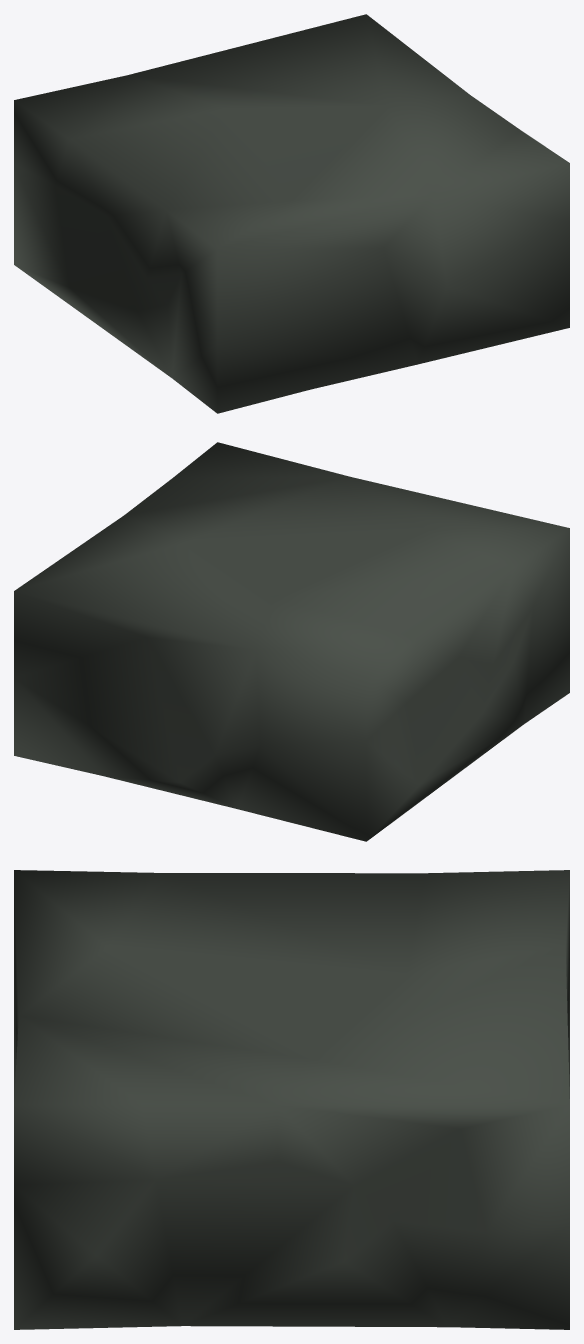
File: underrock_1.glb
The picture shows the model from 3 angles, top to bottom: view 1: azimuth 30°, elevation 25°; view 2: azimuth 150°, elevation 25°; view 3: azimuth 270°, elevation 25°; orthographic projection. The views are drawn at different scales.
Parts seen in each view (by area): view 1: underrock_1; view 2: underrock_1; view 3: underrock_1.
Boxes of the visible parts, bbox=[...] form: underrock_1: bbox=[14, 14, 569, 413]; underrock_1: bbox=[14, 442, 569, 841]; underrock_1: bbox=[14, 870, 569, 1329].
Bounding box in the file's own units: 2.8 × 1.25 × 2.8.
Materials: 1 (1 with a texture image).
